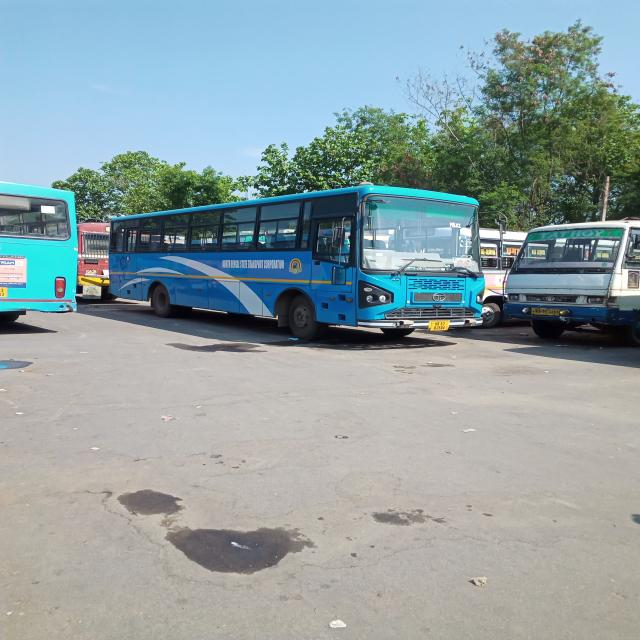Bus: (0, 182, 640, 344)
